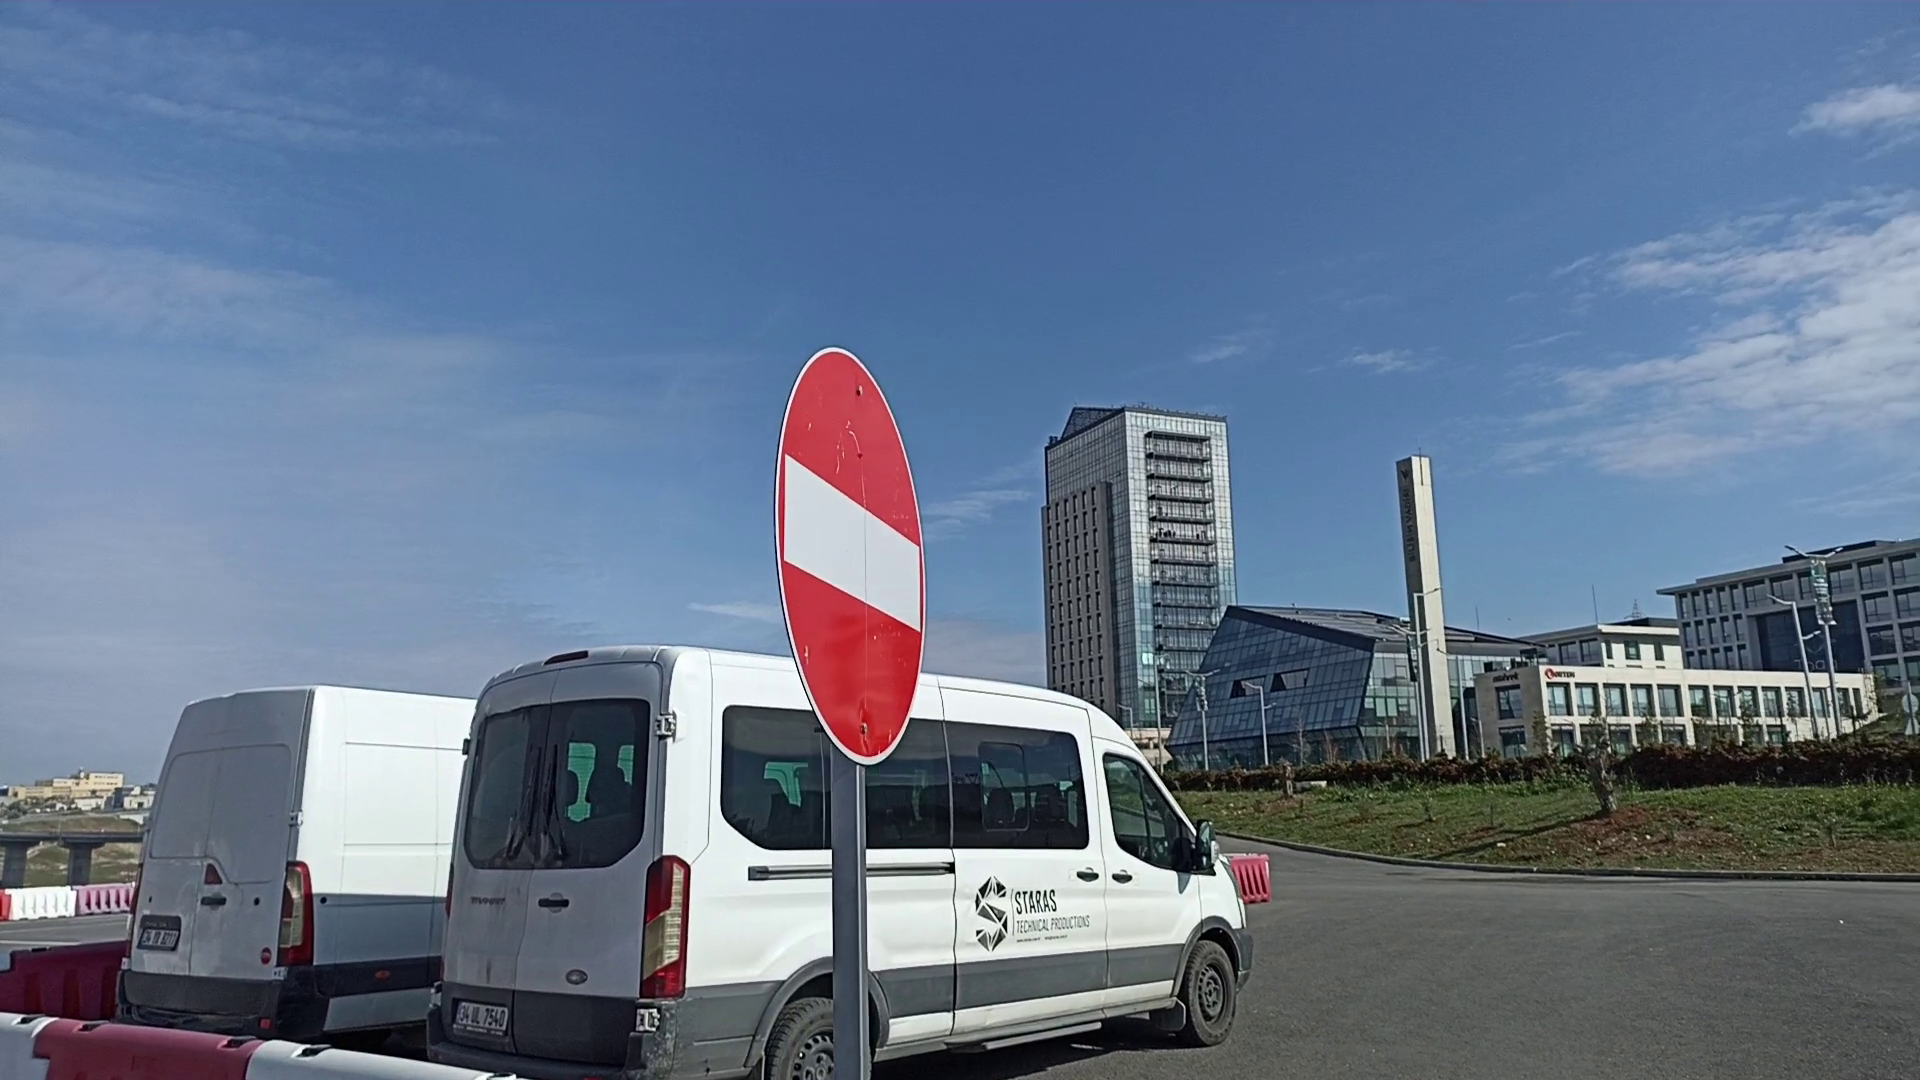noentryway: (770, 344, 934, 775)
